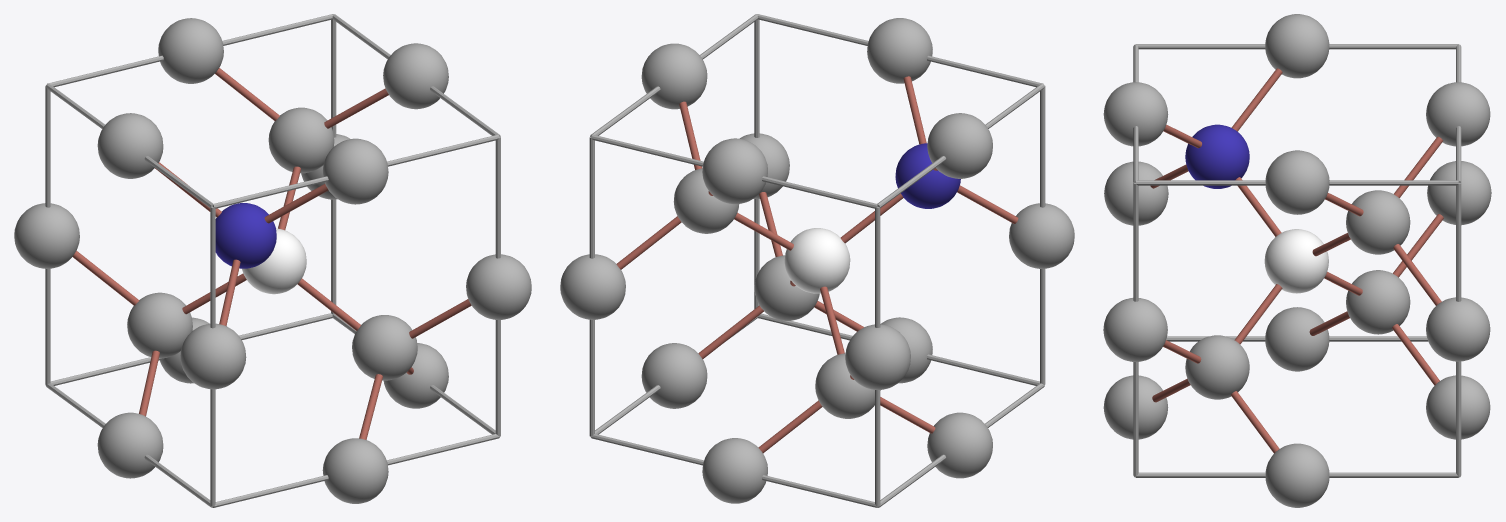
The picture shows the model from 3 angles, left to right: view 1: azimuth 30°, elevation 25°; view 2: azimuth 150°, elevation 25°; view 3: azimuth 270°, elevation 25°; orthographic projection. The views are drawn at different scales.
Visible parts, largest first — view 1: Box001, Sphere007, Sphere003, Sphere002, Sphere005, Sphere010, Sphere013, Sphere012, 内1, Sphere006, 内004, Sphere011 (+6 smaller); view 2: Box001, Sphere003, Sphere013, Sphere009, Sphere004, Sphere005, Sphere008, Sphere010, Sphere012, N, Sphere006, 内1 (+7 smaller); view 3: Box001, Cylinder001 (×8), Sphere008, 内1, Sphere004, Sphere002, Sphere012, Sphere010, 内004, 内2, Sphere013, N (+7 smaller).
Boxes of the visible parts, bbox=[...] form: Box001: bbox=[45, 14, 500, 507]; Sphere007: bbox=[322, 438, 388, 503]; Sphere003: bbox=[14, 203, 79, 268]; Sphere002: bbox=[466, 254, 531, 319]; Sphere005: bbox=[180, 323, 246, 389]; Sphere010: bbox=[322, 138, 388, 204]; Sphere013: bbox=[158, 18, 223, 83]; Sphere012: bbox=[97, 113, 163, 178]; 内1: bbox=[383, 43, 448, 109]; Sphere006: bbox=[97, 412, 163, 478]; 内004: bbox=[352, 315, 417, 380]; Sphere011: bbox=[268, 107, 334, 173]; Box001: bbox=[589, 14, 1045, 507]; Sphere003: bbox=[845, 324, 910, 389]; Sphere013: bbox=[702, 138, 767, 204]; Sphere009: bbox=[702, 438, 767, 503]; Sphere004: bbox=[560, 254, 625, 319]; Sphere005: bbox=[1009, 203, 1074, 268]; Sphere008: bbox=[641, 343, 707, 408]; Sphere010: bbox=[867, 18, 932, 83]; Sphere012: bbox=[927, 113, 992, 178]; N: bbox=[784, 228, 850, 293]; Sphere006: bbox=[927, 412, 992, 478]; 内1: bbox=[641, 43, 707, 109]; Box001: bbox=[1133, 44, 1461, 477]; Cylinder001 (×8): bbox=[1231, 68, 1443, 453]; Sphere008: bbox=[1265, 443, 1329, 507]; 内1: bbox=[1265, 150, 1329, 214]; Sphere004: bbox=[1426, 297, 1490, 361]; Sphere002: bbox=[1103, 298, 1167, 361]; Sphere012: bbox=[1265, 14, 1329, 78]; Sphere010: bbox=[1103, 82, 1168, 146]; 内004: bbox=[1185, 335, 1249, 399]; 内2: bbox=[1346, 270, 1410, 334]; Sphere013: bbox=[1426, 82, 1490, 146]; N: bbox=[1264, 229, 1328, 293].
Bounding box in the file's own units: 1.83 × 1.83 × 1.83.
